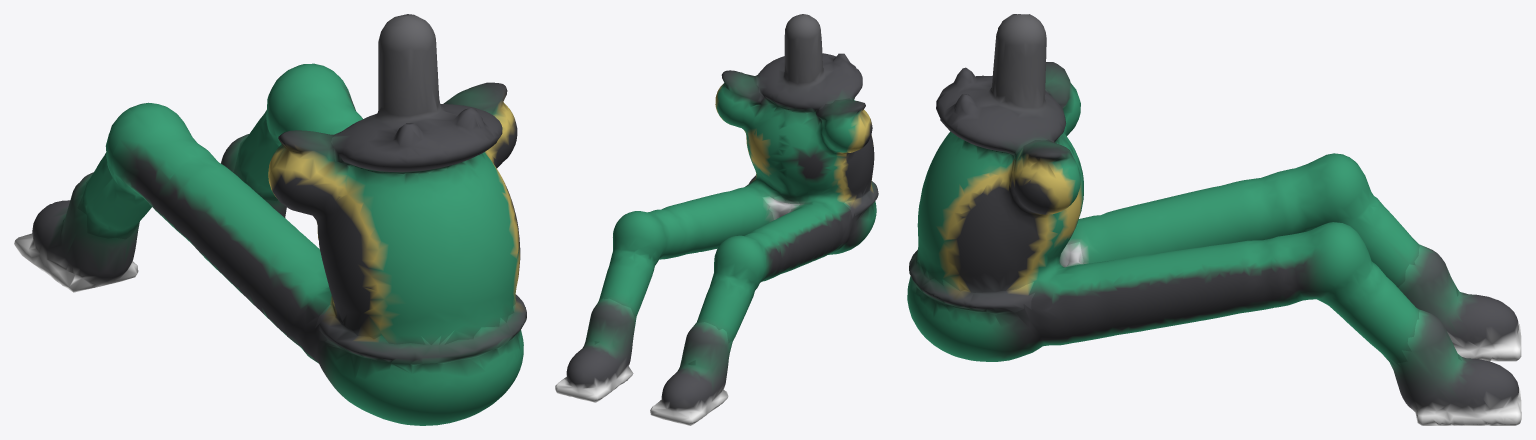
Rendered from pilot_2.glb.
3 views of the same model, side by side, from view 1: azimuth 30°, elevation 25°; view 2: azimuth 150°, elevation 25°; view 3: azimuth 270°, elevation 25° (orthographic). The views are drawn at different scales.
Visible parts, largest first — view 1: Suit; view 2: Suit; view 3: Suit.
Boxes of the visible parts, <box> form: Suit: <box>14,14,526,425</box>; Suit: <box>555,14,878,425</box>; Suit: <box>907,14,1521,425</box>.
Size of the model in its own units: 0.4753 by 0.8056 by 1.21.
